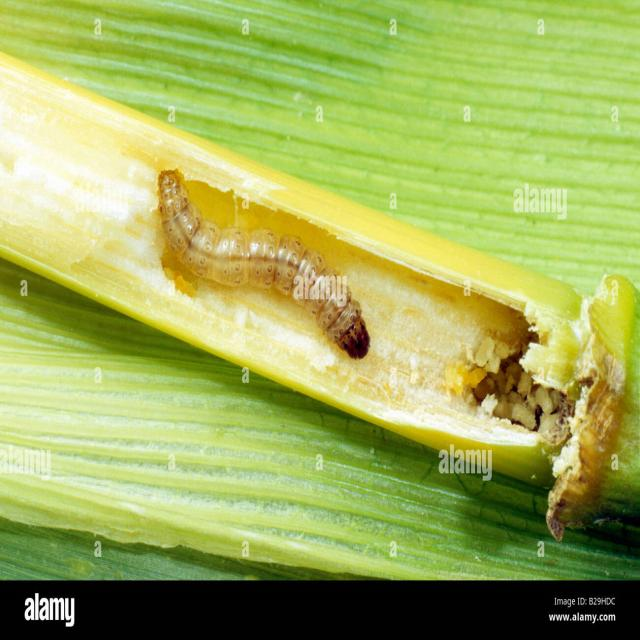cornborer-Larva-: (150, 158, 380, 370)
